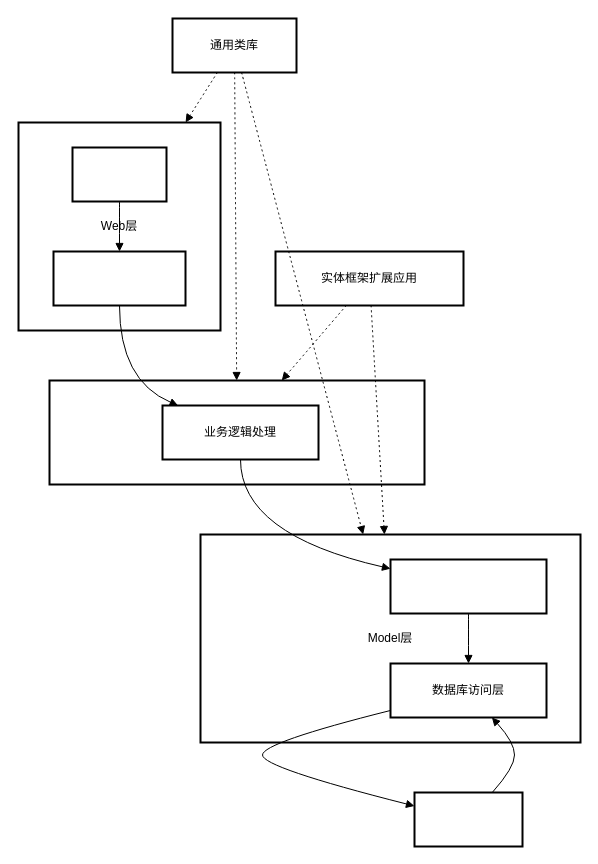
This 598x864 diagram has some shape labels left out. The box of each missing label's shape, as (x1, y1, x2, y2) in pixels:
Controller: (52, 250, 186, 306)
View: (71, 146, 167, 202)
元数据扩展层: (389, 558, 547, 614)
数据库: (413, 791, 523, 847)
